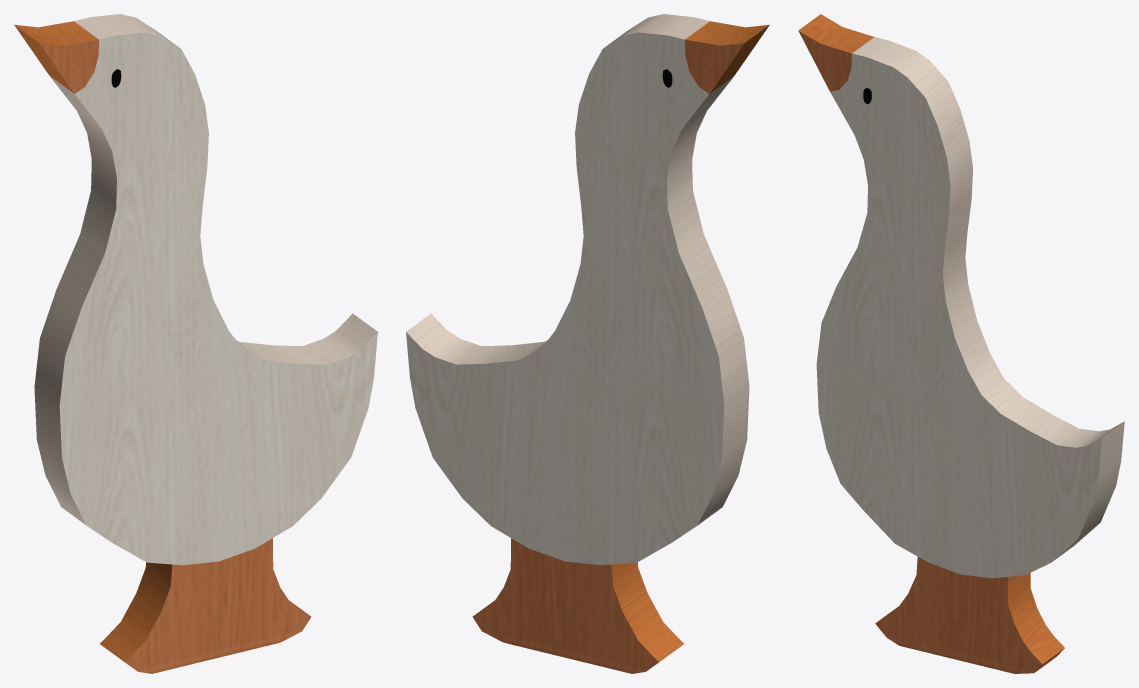
The model's file is Doll_OB_Goose_2.fbx.
3 renders of one model, left to right at view 1: azimuth 30°, elevation 25°; view 2: azimuth 150°, elevation 25°; view 3: azimuth 330°, elevation 25°, orthographic. The views are drawn at different scales.
Visible parts, largest first — view 1: Doll_OB_Goose_2; view 2: Doll_OB_Goose_2; view 3: Doll_OB_Goose_2.
Boxes of the visible parts, x1=… form: Doll_OB_Goose_2: x1=14, y1=14, x2=377, y2=673; Doll_OB_Goose_2: x1=406, y1=14, x2=769, y2=673; Doll_OB_Goose_2: x1=798, y1=14, x2=1124, y2=673.
Size of the model in its own units: 11.27 by 20.92 by 1.45.
